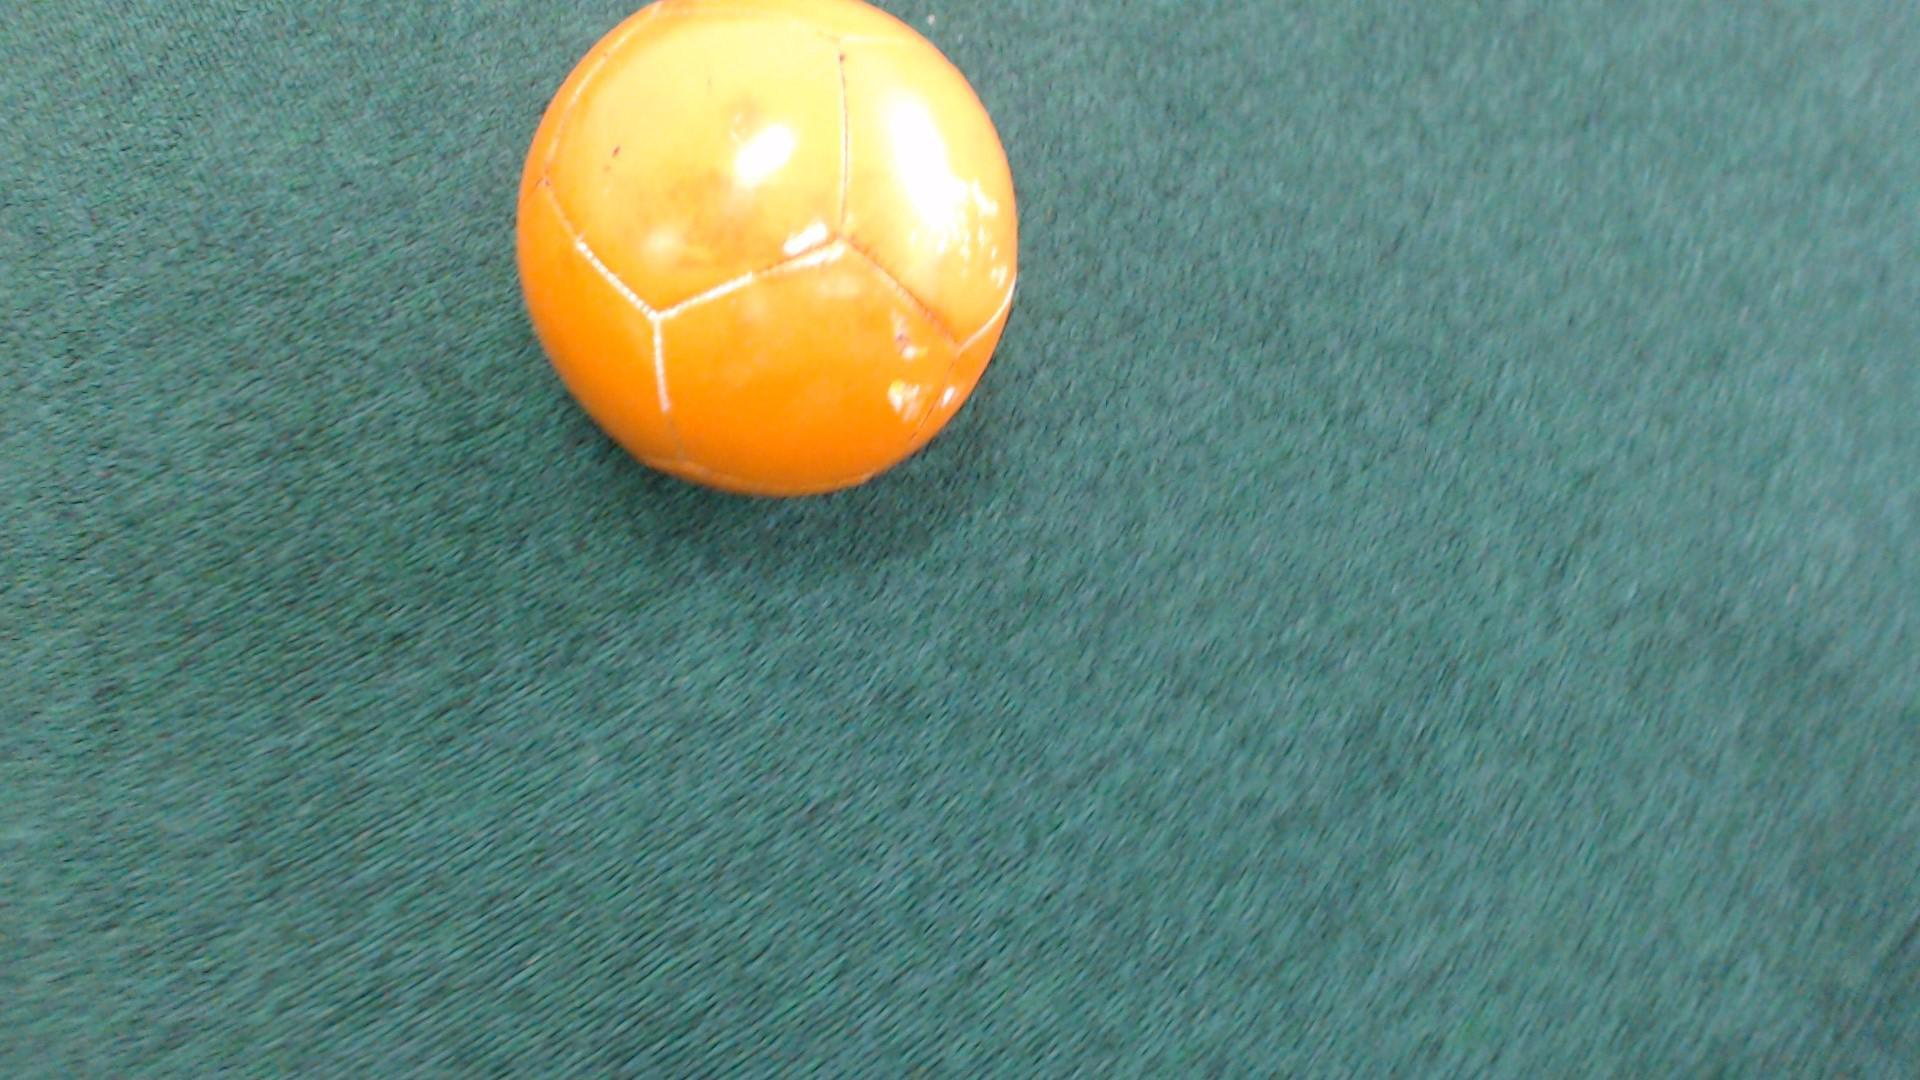bola: (481, 0, 1059, 537)
